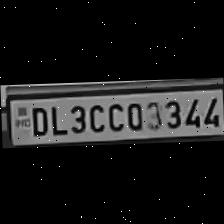3: (64, 100, 86, 134), (160, 95, 182, 129), (142, 96, 162, 129)
4: (180, 94, 200, 128), (199, 92, 219, 125)
C: (84, 98, 104, 132), (105, 97, 123, 130)
D: (25, 101, 47, 135)
L: (46, 101, 64, 135)
Q: (122, 97, 144, 130)
